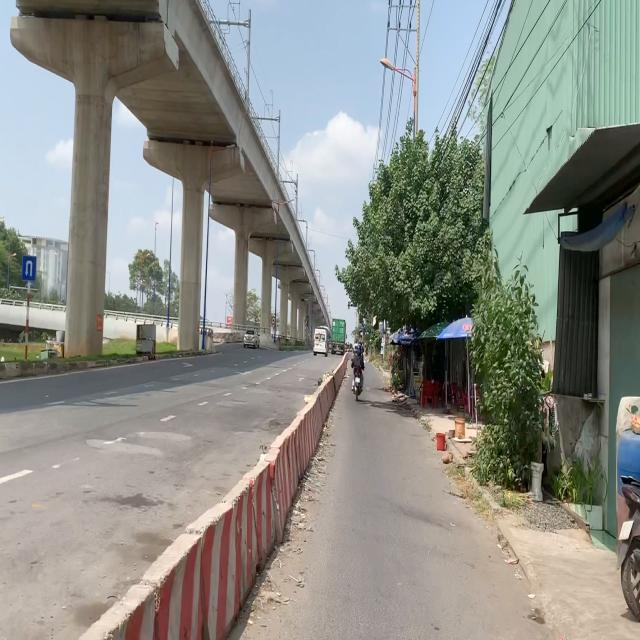Cam con lai: (271, 316, 276, 325)
Chi dan: (21, 253, 36, 281)
